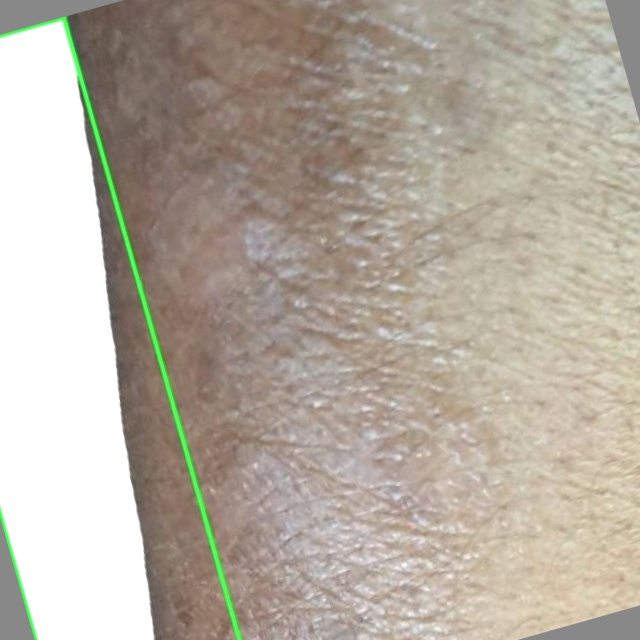Tinea Corporis: (0, 17, 239, 639)
